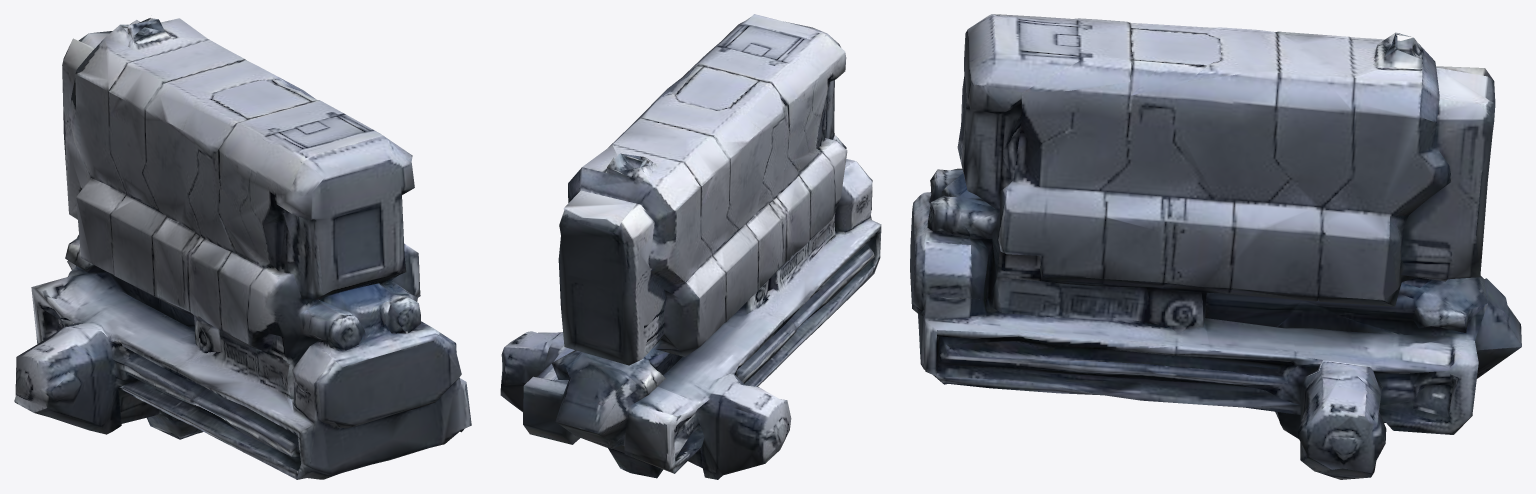
File: wpn_hv_rail_launcher.glb
The picture shows the model from 3 angles, left to right: view 1: azimuth 30°, elevation 25°; view 2: azimuth 150°, elevation 25°; view 3: azimuth 270°, elevation 25°; orthographic projection. The views are drawn at different scales.
Parts seen in each view (by area): view 1: wpn_hv_rail_launcher; view 2: wpn_hv_rail_launcher; view 3: wpn_hv_rail_launcher.
Part boxes in pixels (x1,y1,x2,y2): wpn_hv_rail_launcher: (14,18,471,479); wpn_hv_rail_launcher: (500,14,881,479); wpn_hv_rail_launcher: (910,14,1521,479).
Size of the model in its own units: 0.2316 by 0.2716 by 0.3552.
1 material, 1 textured.
